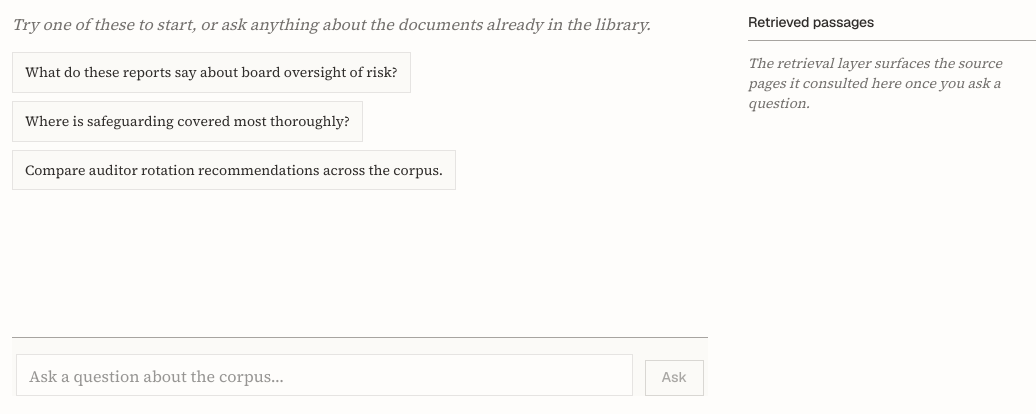
Test: ChatView › streams an assistant reply chunk-by-chunk and surfaces retrieved passages
Type "What about audits?" into the text box labelled "Ask a question about the corpus…" at (324, 375), box [16, 354, 633, 396]
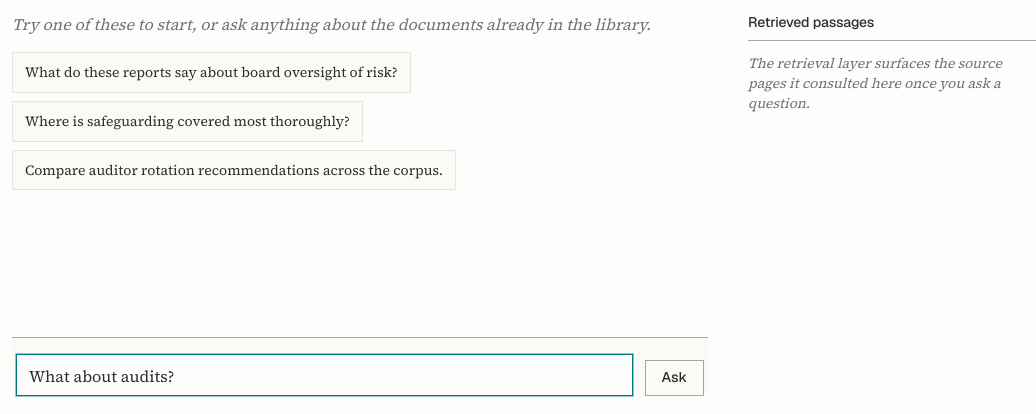
Click the button "Ask" at (674, 378), box [645, 360, 704, 396]
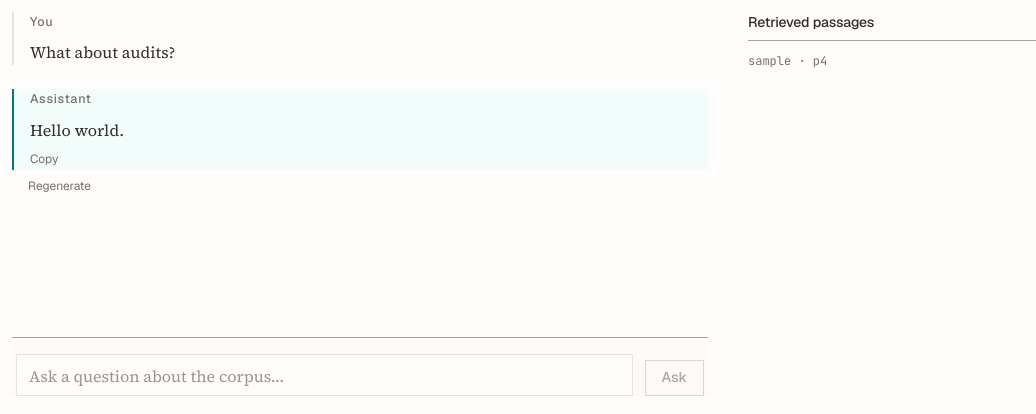
Now the text "Hello world." is shown, box [30, 119, 124, 141]
Now the text "What about audits?" is shown, box [30, 41, 175, 63]
